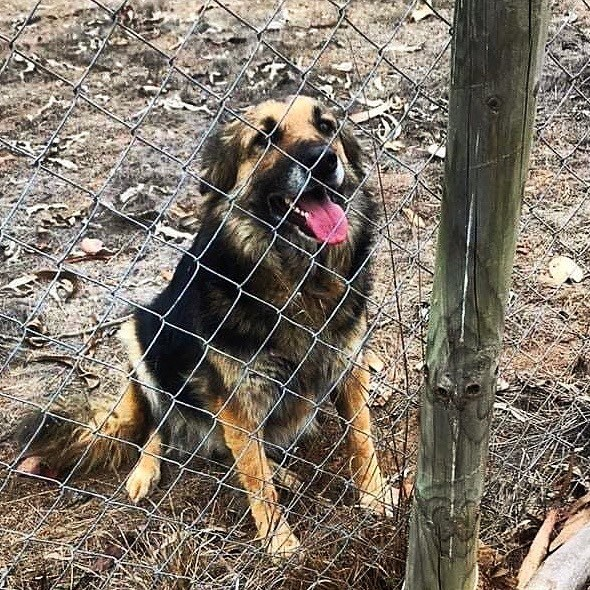dog: (11, 77, 391, 546)
